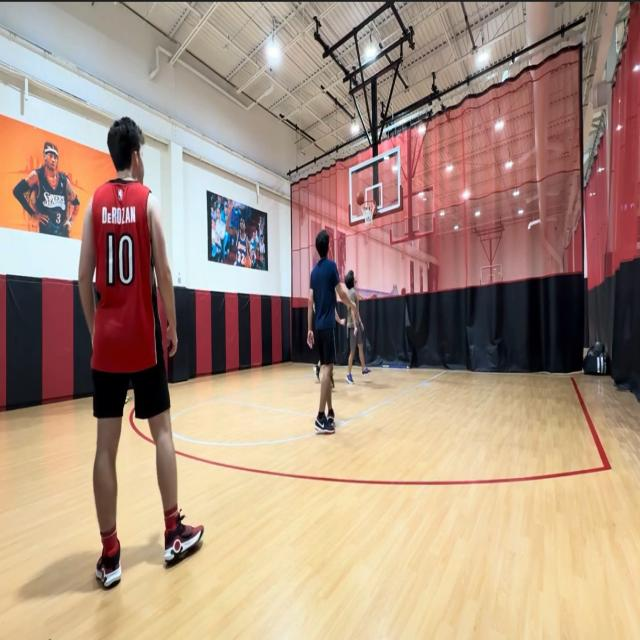Basketball: (356, 190, 364, 204)
Basketball Rim: (361, 200, 375, 225)
Player: (77, 116, 203, 589), (306, 227, 357, 434), (342, 270, 370, 382)
